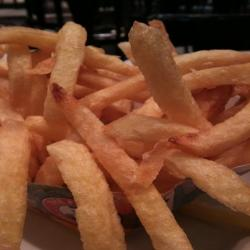fries: (1, 24, 250, 212)
